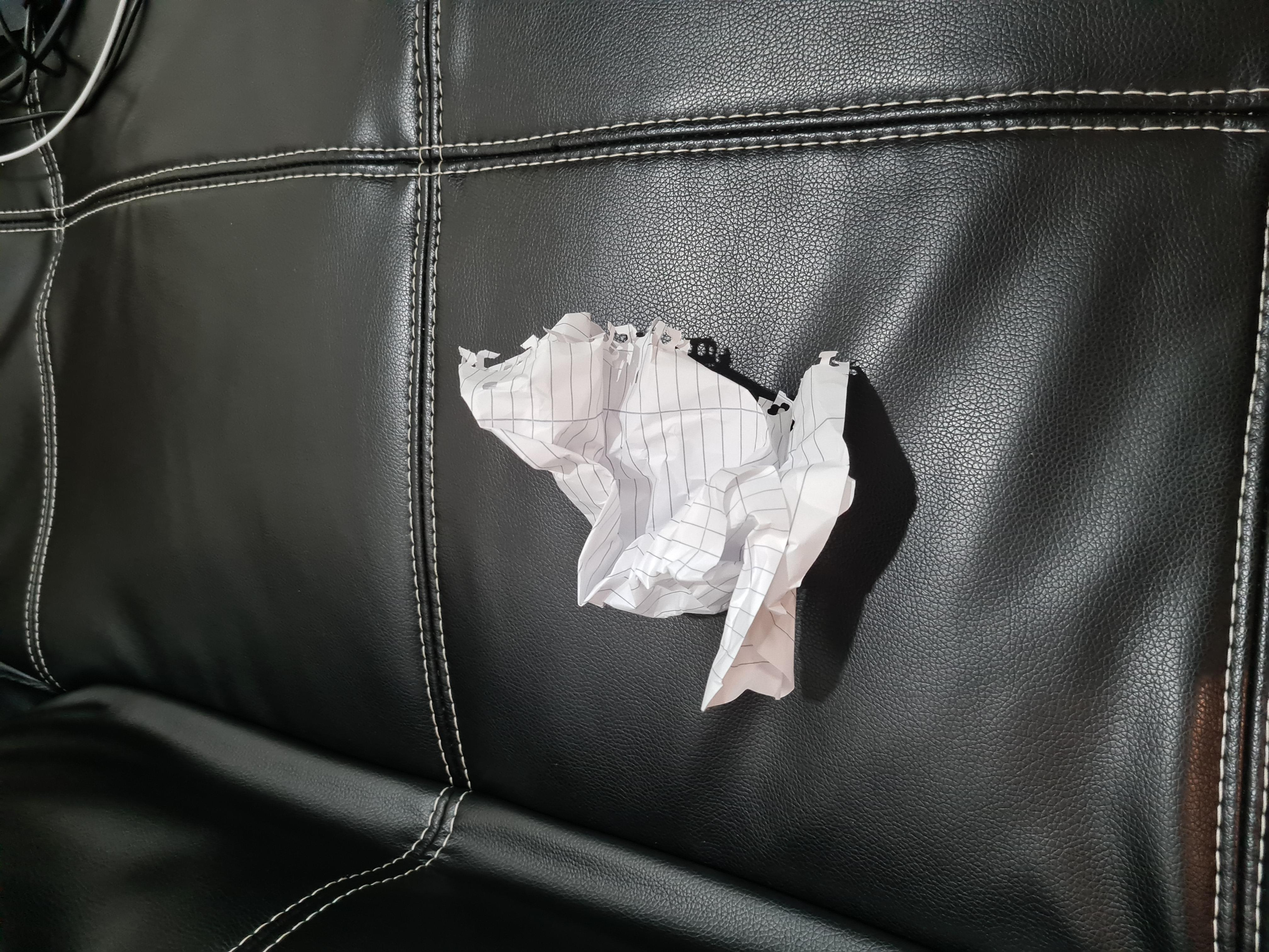paper: (332, 345, 854, 652)
